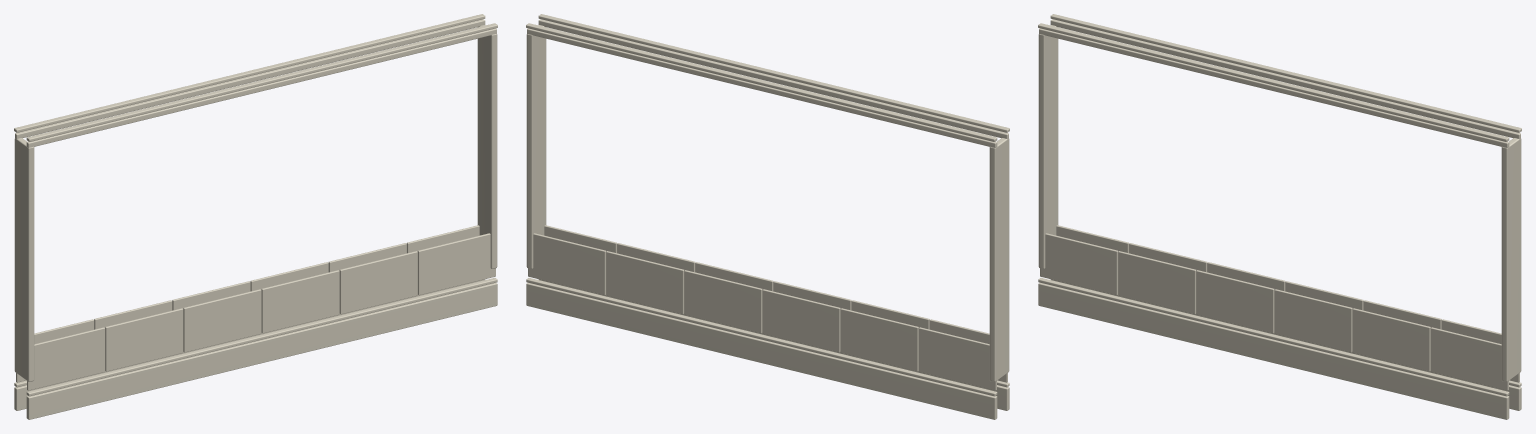
File: Architecture017.fbx
3 renders of one model, left to right at view 1: azimuth 30°, elevation 25°; view 2: azimuth 150°, elevation 25°; view 3: azimuth 330°, elevation 25°, orthographic.
Parts seen in each view (by area): view 1: Architecture017; view 2: Architecture017; view 3: Architecture017.
Boxes of the visible parts, bbox=[...] form: Architecture017: bbox=[14, 14, 497, 419]; Architecture017: bbox=[526, 14, 1009, 419]; Architecture017: bbox=[1038, 14, 1521, 419].
Bounding box in the file's own units: 700 × 401 × 40.
